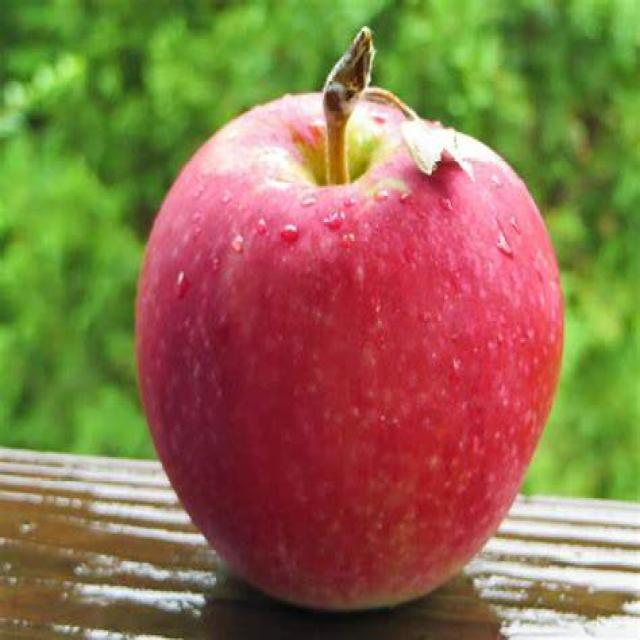Apple: (122, 18, 565, 618)
